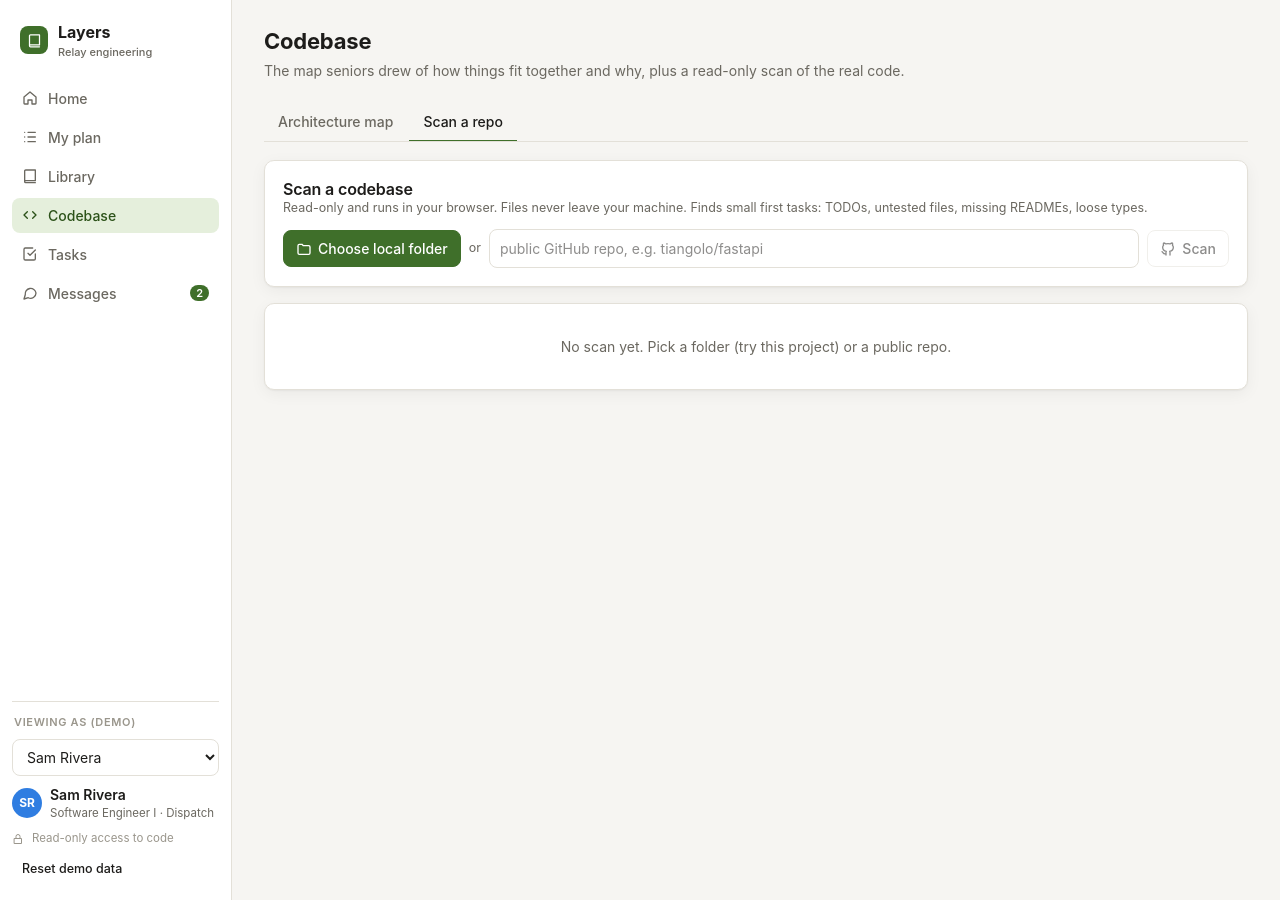
Test: Codebase scanner › shows GitHub errors
The width and height of the screenshot is (1280, 900).
Step 1. Type "acme/private" into the field with placeholder "public GitHub repo, e.g. tiangolo/fastapi" → [814, 249], box left=489, top=229, right=1139, bottom=268
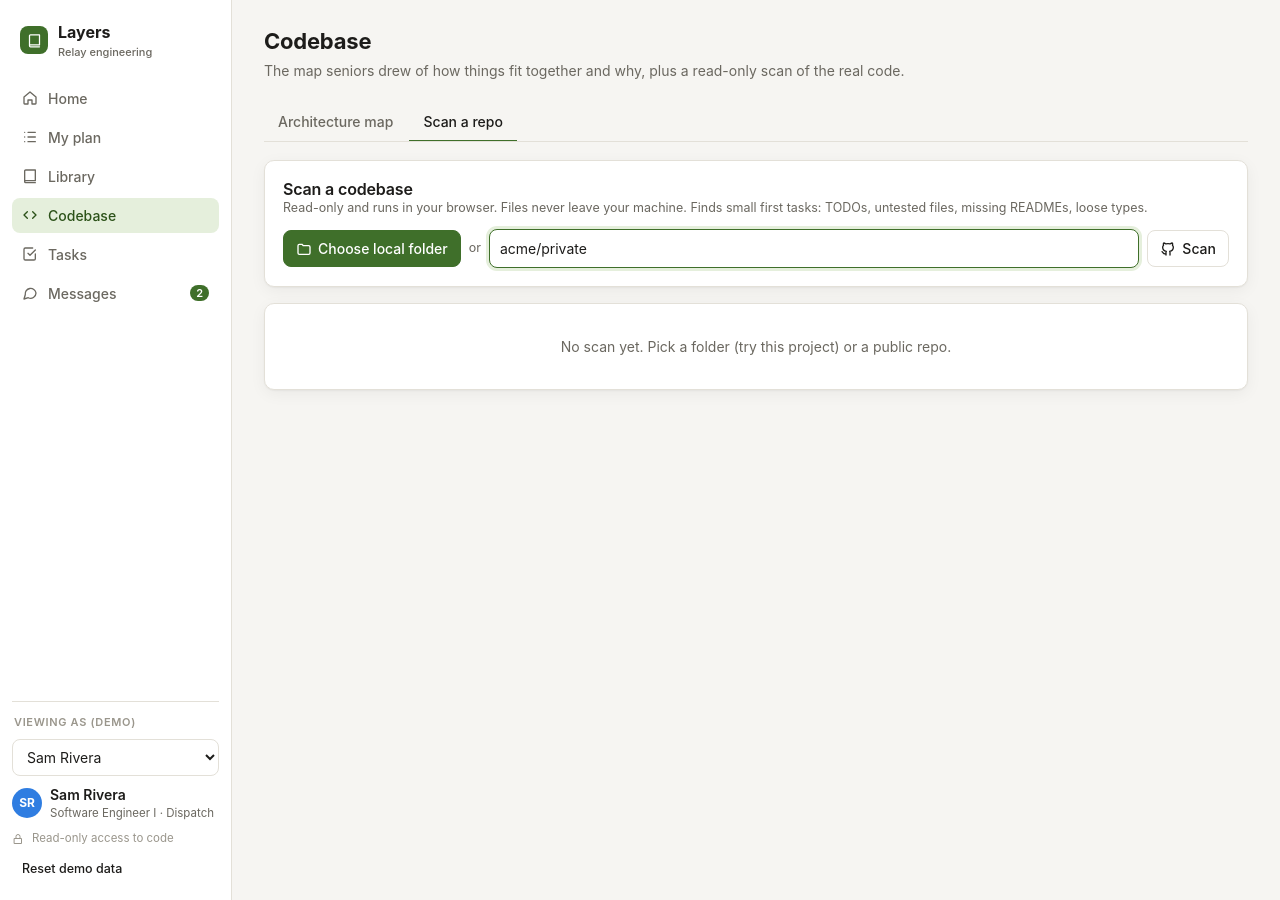
Step 2. Click the button "Scan" → [1188, 249], box left=1147, top=230, right=1229, bottom=267
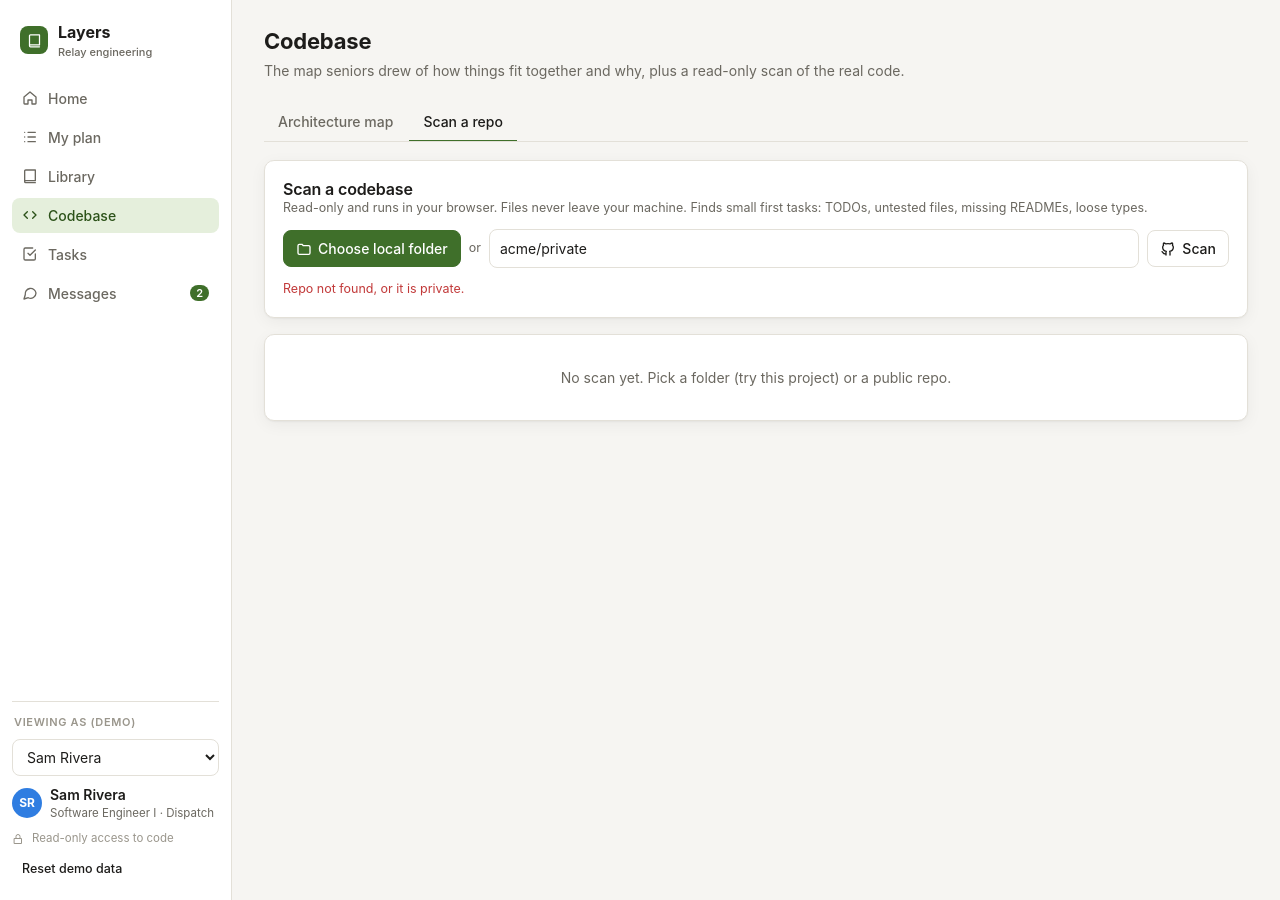
Check: the text "Repo not found, or it is private." is shown, box left=283, top=281, right=464, bottom=296
